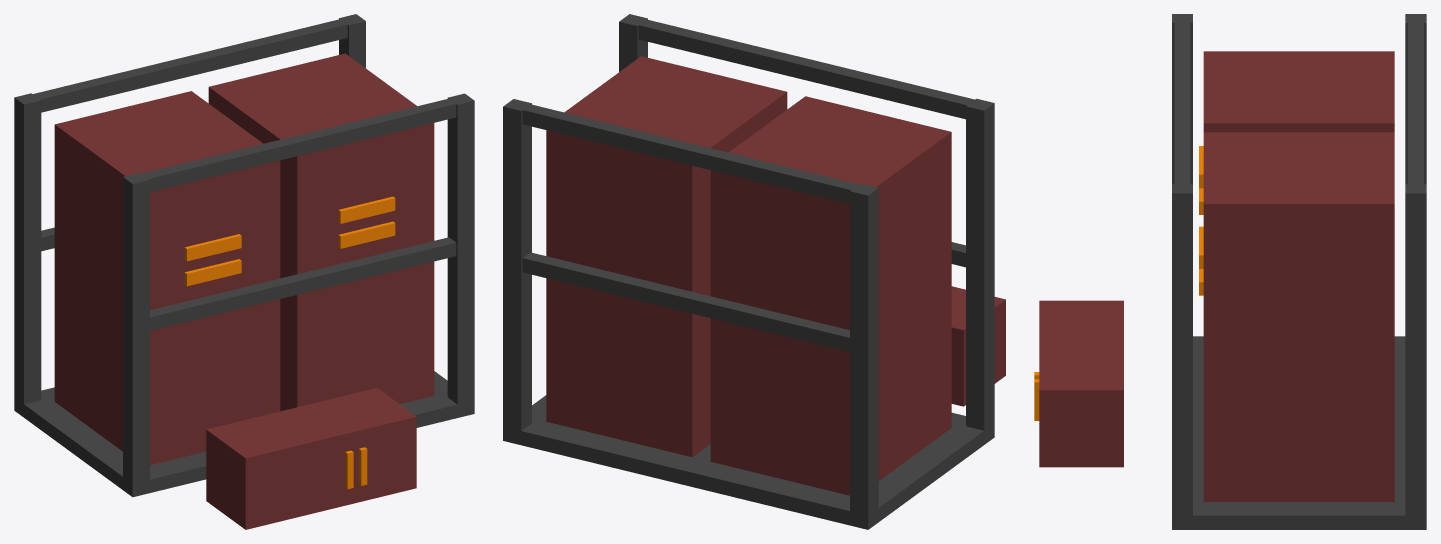
Rendered from ce_ammo2_flame_prom_c.obj.
3 renders of one model, left to right at view 1: azimuth 30°, elevation 25°; view 2: azimuth 150°, elevation 25°; view 3: azimuth 270°, elevation 25°, orthographic. The views are drawn at different scales.
Parts seen in each view (by area): view 1: ce_ammo2_flame_prom_c_9, ce_ammo2_flame_prom_c_12, ce_ammo2_flame_prom_c_15, ce_ammo2_flame_prom_c_2, ce_ammo2_flame_prom_c_1, ce_ammo2_flame_prom_c_3, ce_ammo2_flame_prom_c_0, ce_ammo2_flame_prom_c_8, ce_ammo2_flame_prom_c_7, ce_ammo2_flame_prom_c_5, ce_ammo2_flame_prom_c_4, ce_ammo2_flame_prom_c_13 (+3 smaller); view 2: ce_ammo2_flame_prom_c_9, ce_ammo2_flame_prom_c_12, ce_ammo2_flame_prom_c_0, ce_ammo2_flame_prom_c_1, ce_ammo2_flame_prom_c_2, ce_ammo2_flame_prom_c_4, ce_ammo2_flame_prom_c_7, ce_ammo2_flame_prom_c_8, ce_ammo2_flame_prom_c_6, ce_ammo2_flame_prom_c_15, ce_ammo2_flame_prom_c_3; view 3: ce_ammo2_flame_prom_c_12, ce_ammo2_flame_prom_c_9, ce_ammo2_flame_prom_c_15, ce_ammo2_flame_prom_c_0, ce_ammo2_flame_prom_c_4, ce_ammo2_flame_prom_c_3, ce_ammo2_flame_prom_c_7, ce_ammo2_flame_prom_c_8, ce_ammo2_flame_prom_c_2, ce_ammo2_flame_prom_c_1.
Boxes of the visible parts, x1,y1,x2,y2 form: ce_ammo2_flame_prom_c_9: [54, 91, 280, 464]; ce_ammo2_flame_prom_c_12: [208, 53, 434, 411]; ce_ammo2_flame_prom_c_15: [206, 388, 416, 529]; ce_ammo2_flame_prom_c_2: [14, 93, 41, 404]; ce_ammo2_flame_prom_c_1: [123, 173, 149, 483]; ce_ammo2_flame_prom_c_3: [447, 93, 474, 404]; ce_ammo2_flame_prom_c_0: [14, 371, 474, 497]; ce_ammo2_flame_prom_c_8: [33, 19, 347, 112]; ce_ammo2_flame_prom_c_7: [141, 98, 456, 191]; ce_ammo2_flame_prom_c_5: [150, 237, 456, 330]; ce_ammo2_flame_prom_c_4: [339, 14, 365, 67]; ce_ammo2_flame_prom_c_13: [338, 221, 395, 248]; ce_ammo2_flame_prom_c_9: [710, 96, 951, 495]; ce_ammo2_flame_prom_c_12: [546, 56, 787, 457]; ce_ammo2_flame_prom_c_0: [503, 395, 994, 529]; ce_ammo2_flame_prom_c_1: [966, 98, 994, 430]; ce_ammo2_flame_prom_c_2: [850, 183, 878, 515]; ce_ammo2_flame_prom_c_4: [503, 99, 531, 430]; ce_ammo2_flame_prom_c_7: [638, 19, 974, 119]; ce_ammo2_flame_prom_c_8: [522, 104, 858, 203]; ce_ammo2_flame_prom_c_6: [522, 252, 849, 352]; ce_ammo2_flame_prom_c_15: [951, 286, 1005, 406]; ce_ammo2_flame_prom_c_3: [619, 14, 647, 71]; ce_ammo2_flame_prom_c_12: [1203, 132, 1394, 501]; ce_ammo2_flame_prom_c_9: [1203, 51, 1394, 132]; ce_ammo2_flame_prom_c_15: [1039, 300, 1123, 467]; ce_ammo2_flame_prom_c_0: [1172, 336, 1426, 529]; ce_ammo2_flame_prom_c_4: [1405, 184, 1426, 515]; ce_ammo2_flame_prom_c_3: [1172, 184, 1192, 515]; ce_ammo2_flame_prom_c_7: [1174, 23, 1190, 184]; ce_ammo2_flame_prom_c_8: [1408, 23, 1423, 184]; ce_ammo2_flame_prom_c_2: [1405, 14, 1426, 184]; ce_ammo2_flame_prom_c_1: [1172, 14, 1192, 184].
Size of the model in its own units: 0.8 by 0.7 by 0.739.
